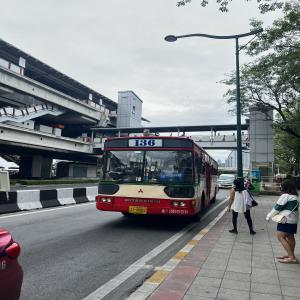BMTA-bus: (95, 133, 221, 220)
Bus Line Number: (128, 139, 163, 147)
Bus Side Number: (158, 207, 190, 216)
Destination Sign: (158, 172, 184, 183)
